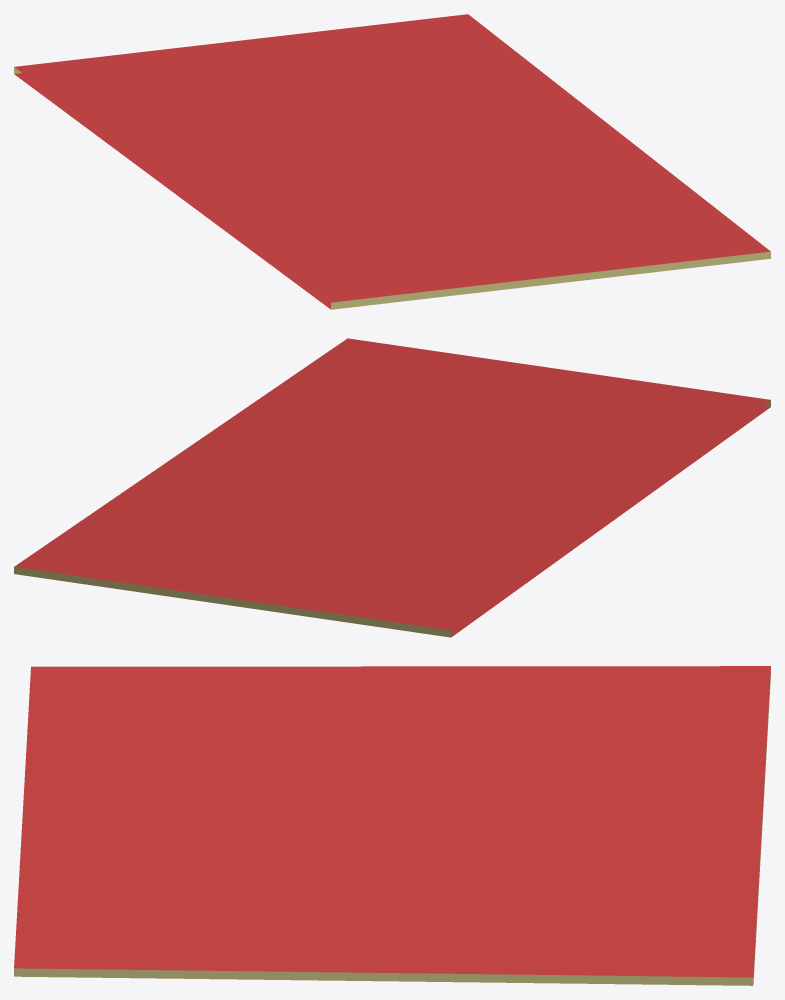
3 renders of one model, top to bottom at view 1: azimuth 30°, elevation 25°; view 2: azimuth 150°, elevation 25°; view 3: azimuth 270°, elevation 25°, orthographic. The views are drawn at different scales.
Size of the model in its own units: 6.51 by 8.21 by 0.803.
